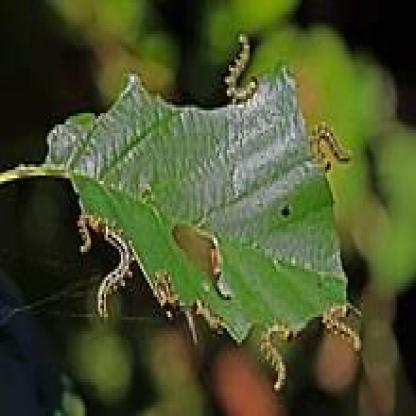sawfly: (94, 222, 137, 324), (254, 312, 294, 396), (222, 29, 262, 106), (307, 120, 356, 173), (322, 297, 363, 353), (74, 202, 103, 259), (190, 292, 224, 335), (152, 265, 182, 309)
